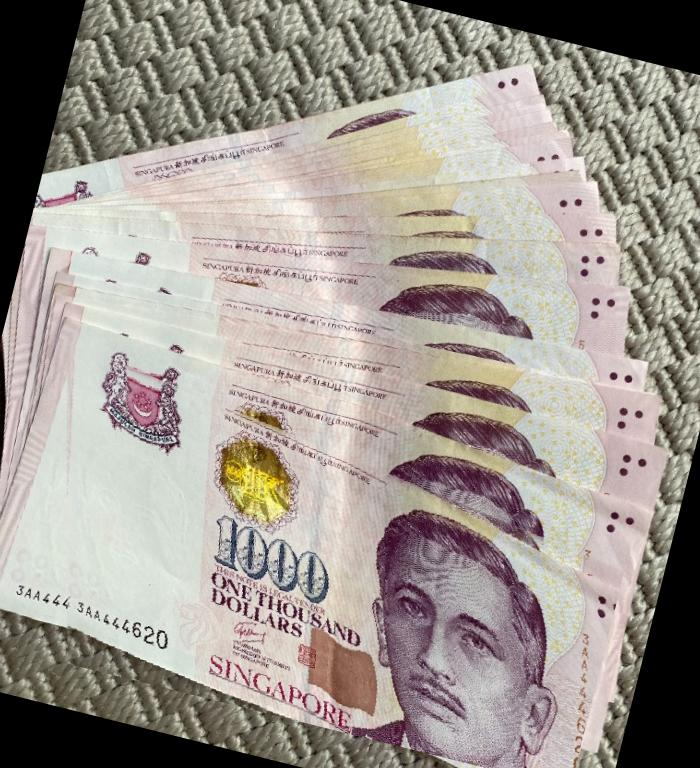1000SingaporeDollar: (0, 341, 646, 768)
